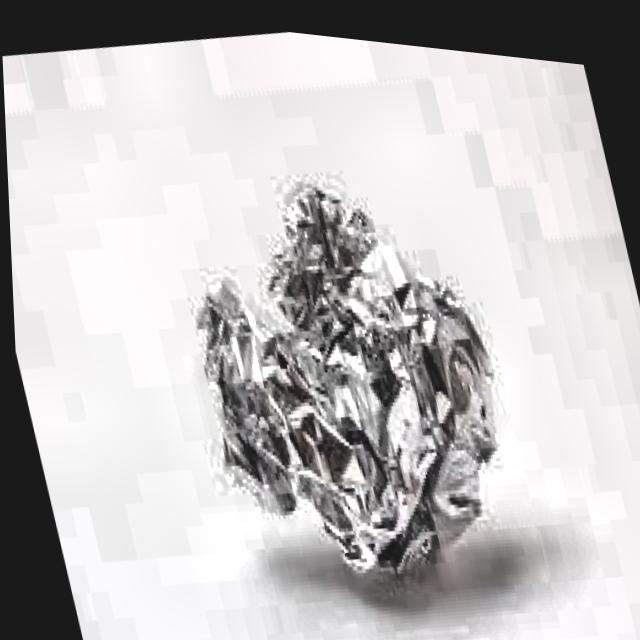Foil: (136, 137, 559, 640)
